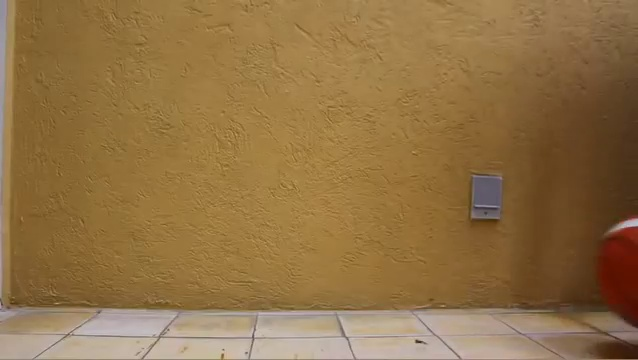ball: (596, 214, 637, 332)
